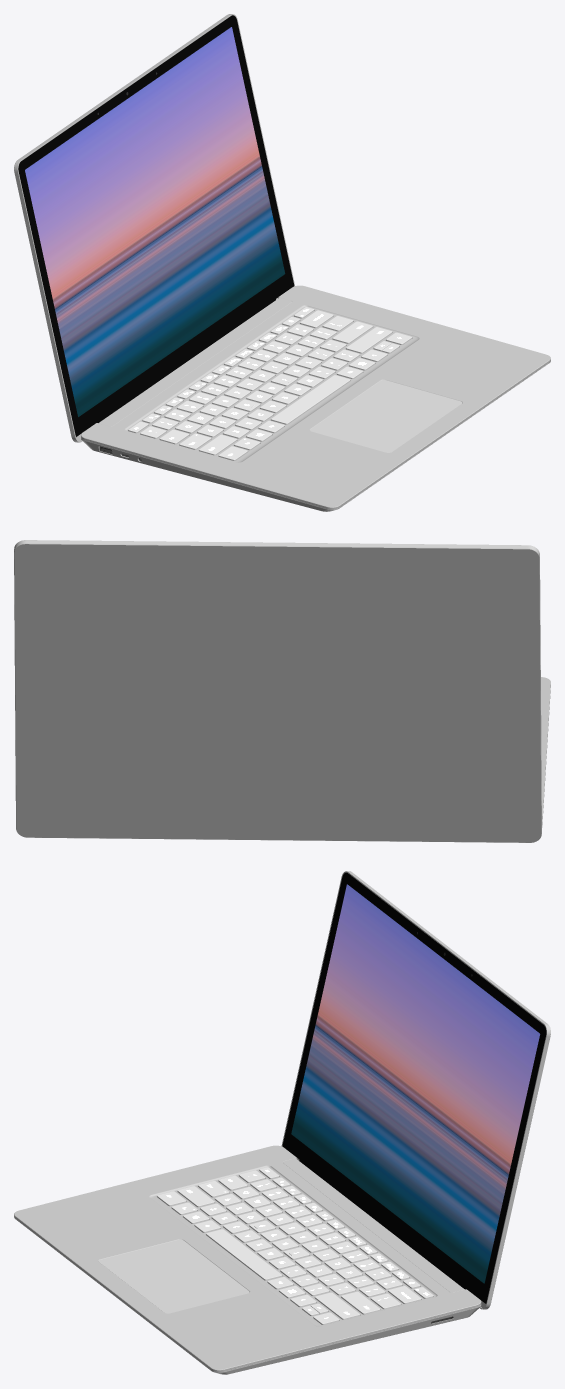
File: Project Name.gltf
3 renders of one model, top to bottom at view 1: azimuth 30°, elevation 25°; view 2: azimuth 150°, elevation 25°; view 3: azimuth 270°, elevation 25°, orthographic. The views are drawn at different scales.
Parts seen in each view (by area): view 1: Screen, Body, Keyboard, Black Frame, Touchpad, Display Body; view 2: Display Body, Body; view 3: Screen, Body, Keyboard, Black Frame, Touchpad, Display Body.
Part boxes in pixels (<box>): Screen: <box>25,27,285,416</box>; Body: <box>81,285,550,511</box>; Keyboard: <box>128,307,411,460</box>; Black Frame: <box>18,15,294,436</box>; Touchpad: <box>310,380,462,452</box>; Display Body: <box>14,14,294,442</box>; Display Body: <box>14,540,541,842</box>; Body: <box>541,677,550,827</box>; Screen: <box>291,884,540,1283</box>; Body: <box>14,1145,481,1374</box>; Keyboard: <box>157,1167,433,1324</box>; Black Frame: <box>282,872,546,1303</box>; Touchpad: <box>98,1239,249,1313</box>; Display Body: <box>281,871,550,1309</box>.
Size of the model in its own units: 0.1821 by 0.0995 by 0.1761.
7 materials, 1 textured.
